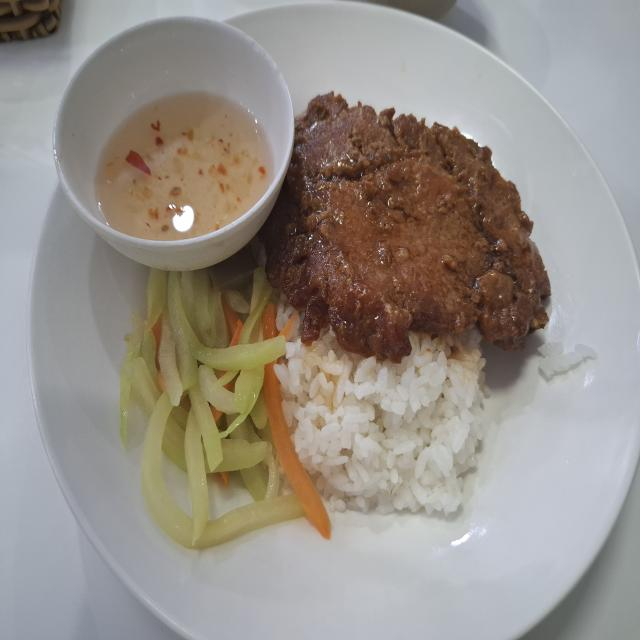com: (275, 333, 489, 514)
nuoc mam: (96, 93, 272, 241)
rau: (120, 270, 330, 549)
suon mieng: (263, 94, 550, 361)
